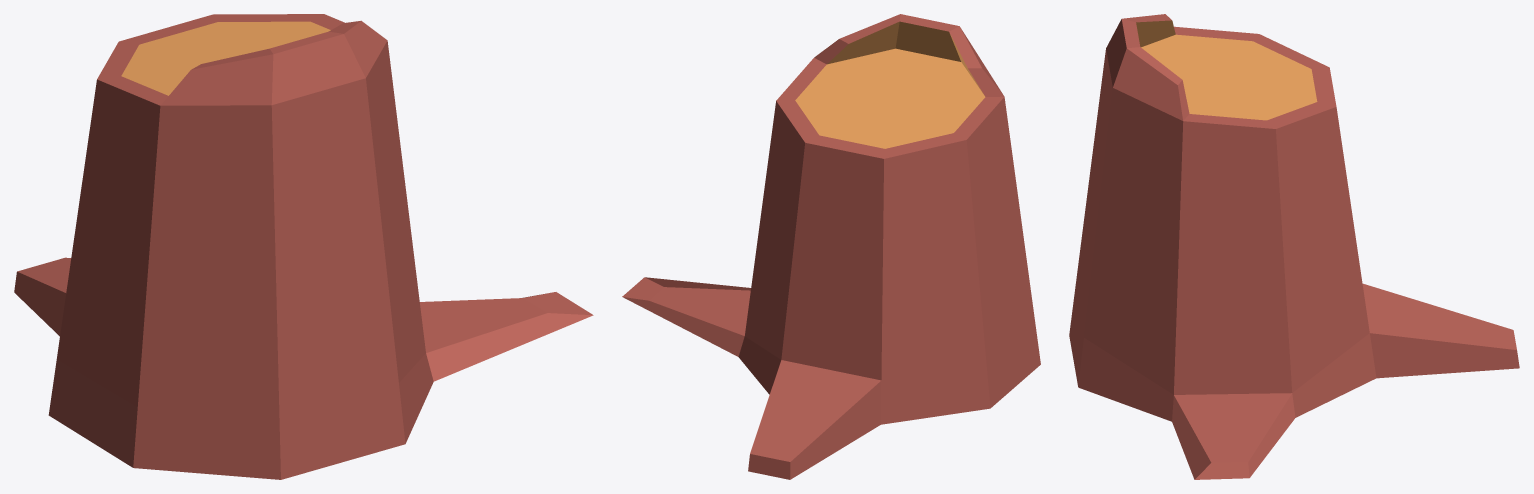
Rendered from Stump4_summer.FBX.
3 renders of one model, left to right at view 1: azimuth 30°, elevation 25°; view 2: azimuth 150°, elevation 25°; view 3: azimuth 270°, elevation 25°, orthographic. The views are drawn at different scales.
Visible parts, largest first — view 1: Penek elk; view 2: Penek elk; view 3: Penek elk.
Boxes of the visible parts, x1,y1,x2,y2 form: Penek elk: (14,14,593,479); Penek elk: (622,14,1040,479); Penek elk: (1069,14,1519,479).
Size of the model in its own units: 1.25 by 0.9855 by 1.2.
